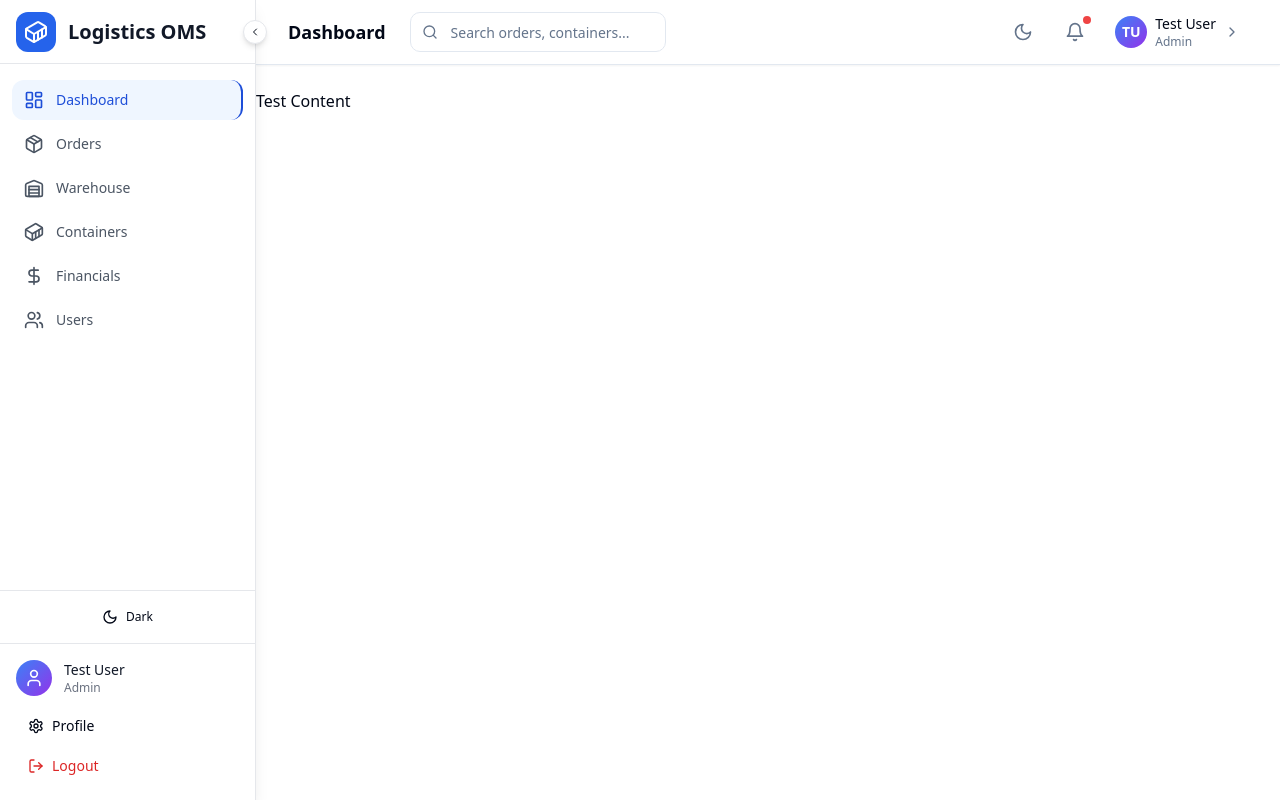
Test: DashboardLayout Component - All Elements and Role-Based Features › User Menu Tests › closes user dropdown when clicking outside
This screenshot has width=1280, height=800.
Click the button with aria-label "User menu" at point(1178, 32), box [1107,6,1248,58]
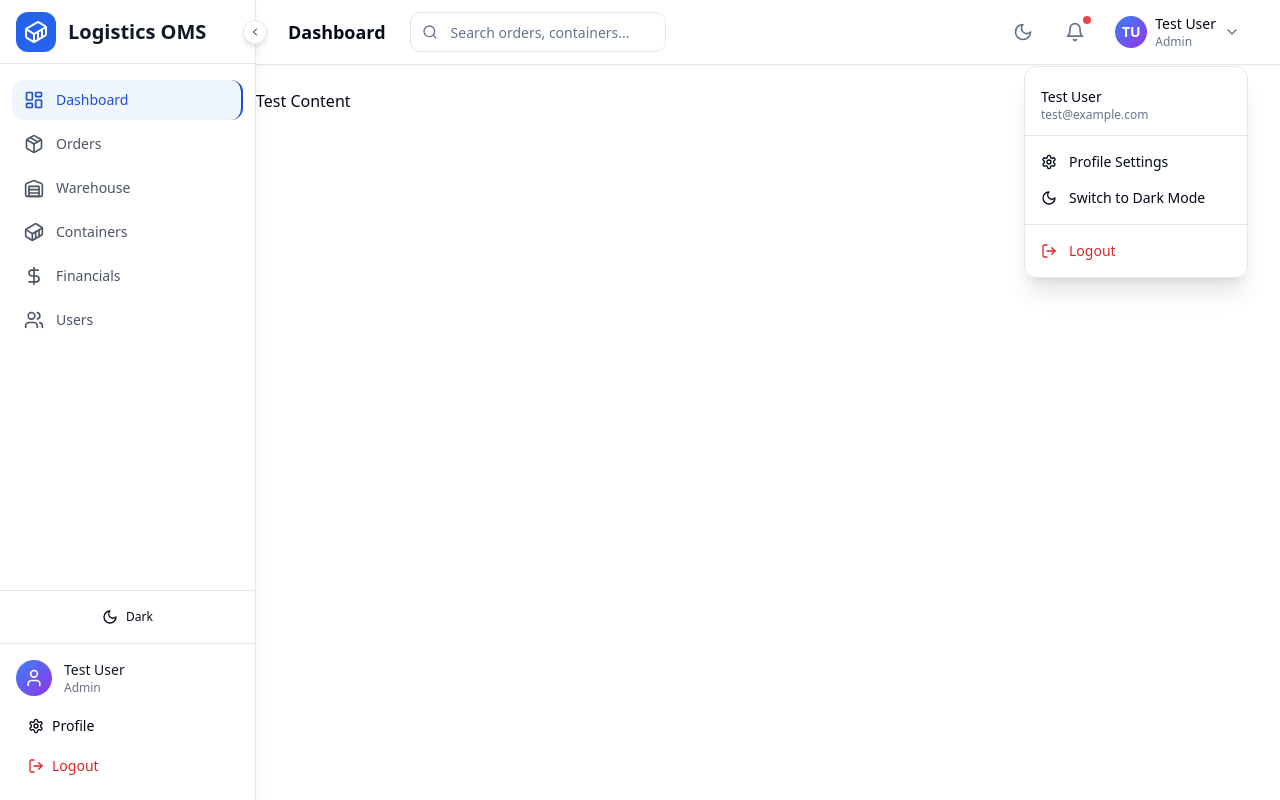
Note: Click outside
Press the mouse on the element that starts with "Logistics OMS" at point(640, 400), box [0,0,1279,799]
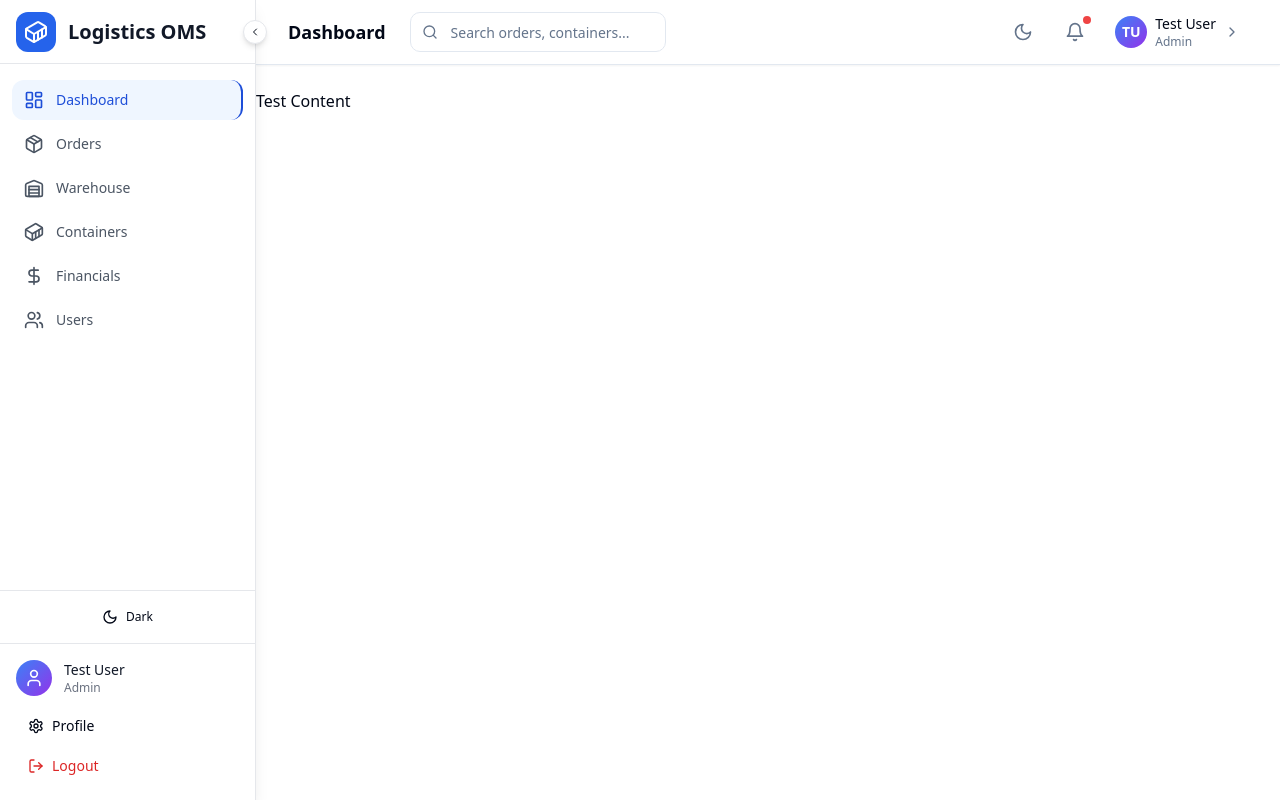
Expected: the link "Profile Settings" is gone
